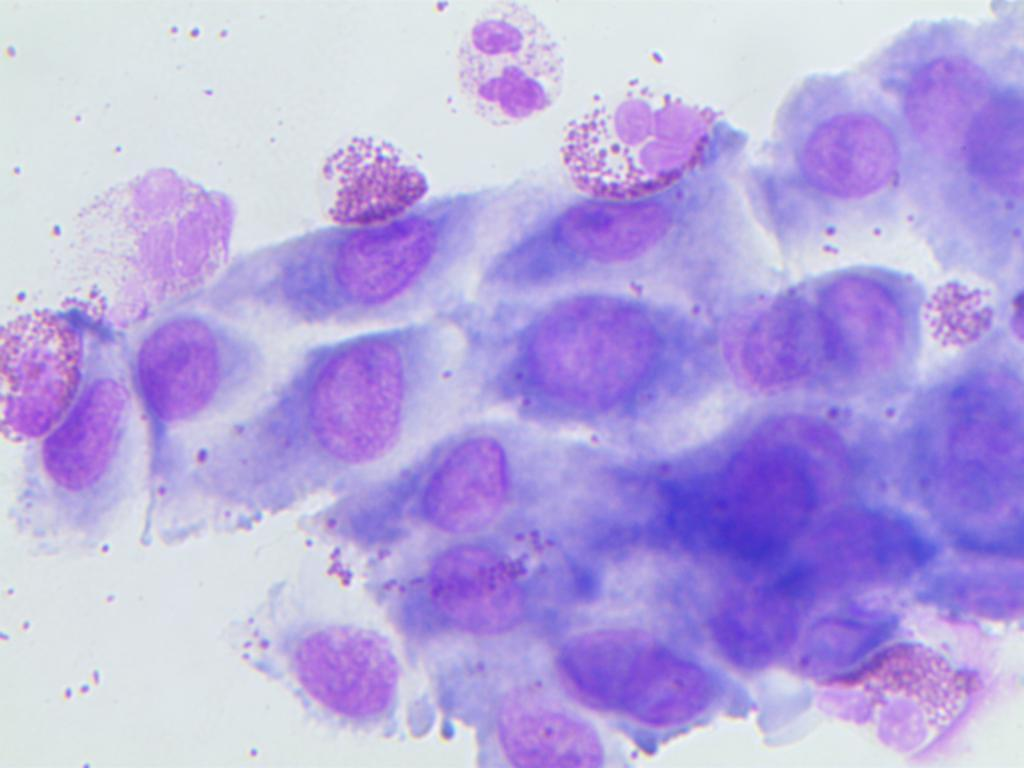artifact: (89, 152, 246, 333)
eosinophil: (821, 620, 977, 768), (558, 86, 735, 208), (0, 277, 92, 448), (305, 122, 436, 228), (907, 266, 1005, 362)
epithelial: (481, 286, 699, 422), (738, 250, 913, 391), (231, 596, 407, 736), (243, 211, 454, 323), (906, 359, 1024, 557), (558, 609, 713, 732), (294, 332, 423, 471), (483, 197, 690, 282), (920, 66, 1024, 206), (764, 106, 903, 210), (684, 569, 813, 669), (483, 676, 609, 768), (131, 315, 229, 433), (418, 542, 527, 642), (55, 382, 121, 506)
goblet_cell: (409, 431, 676, 553)
metaplastic: (667, 400, 867, 569), (798, 501, 934, 598)
neutrophil: (446, 2, 568, 128)
